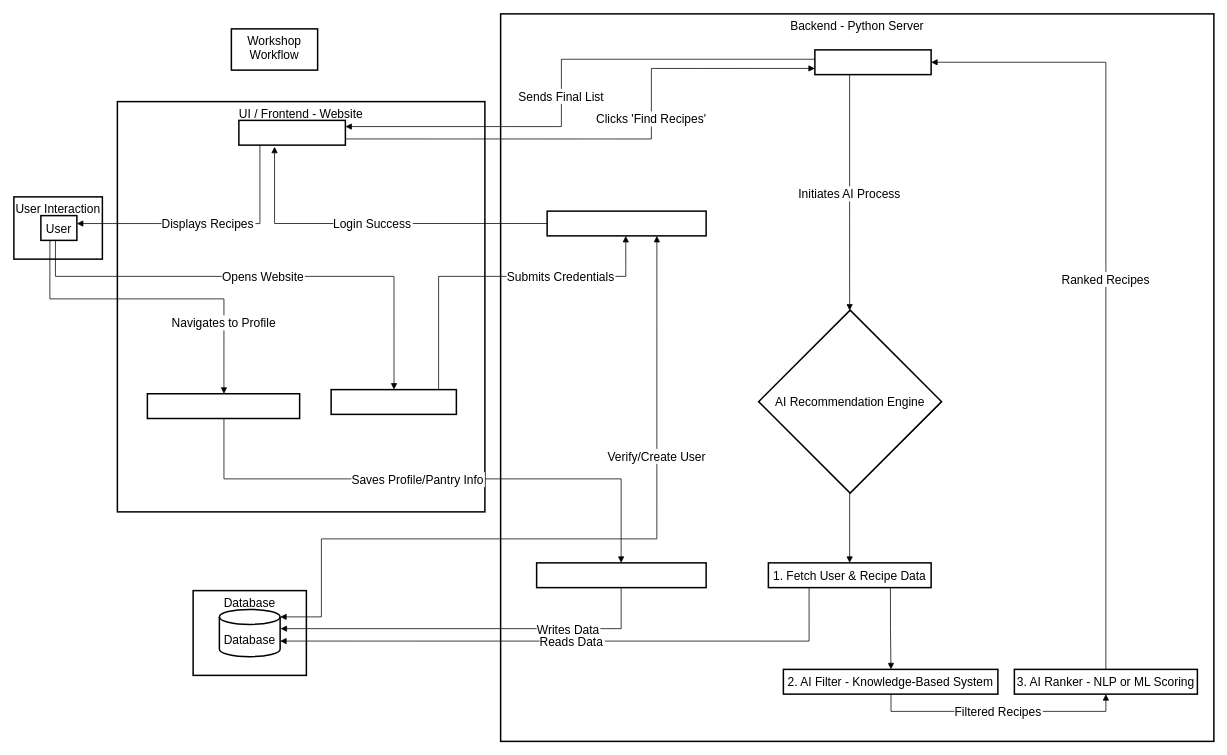
This 1227x755 diagram has some shape labels left out. The centre of each missing label's shape, as x and y in pixels:
"Get Recipe Request" belongs at (x=873, y=62).
"Handle User Authentication" belongs at (x=626, y=223).
"Login / Register Page" belongs at (x=393, y=401).
"Manage Profile & Pantry Data" belongs at (x=621, y=575).
"Recipe Dashboard" belongs at (x=292, y=132).
"User Profile & Pantry Page" belongs at (x=223, y=406).
